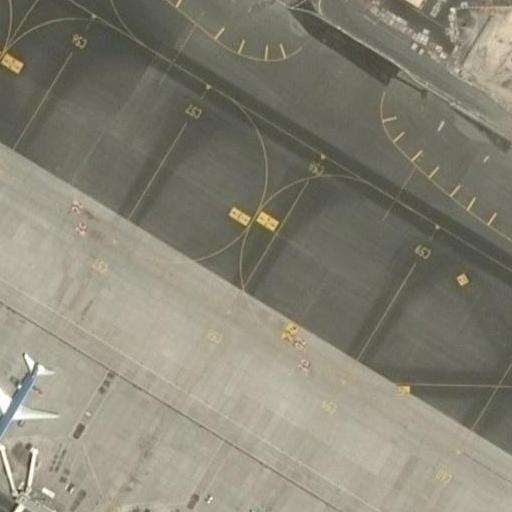Aircraft: (0, 344, 57, 441), (214, 502, 274, 512)
